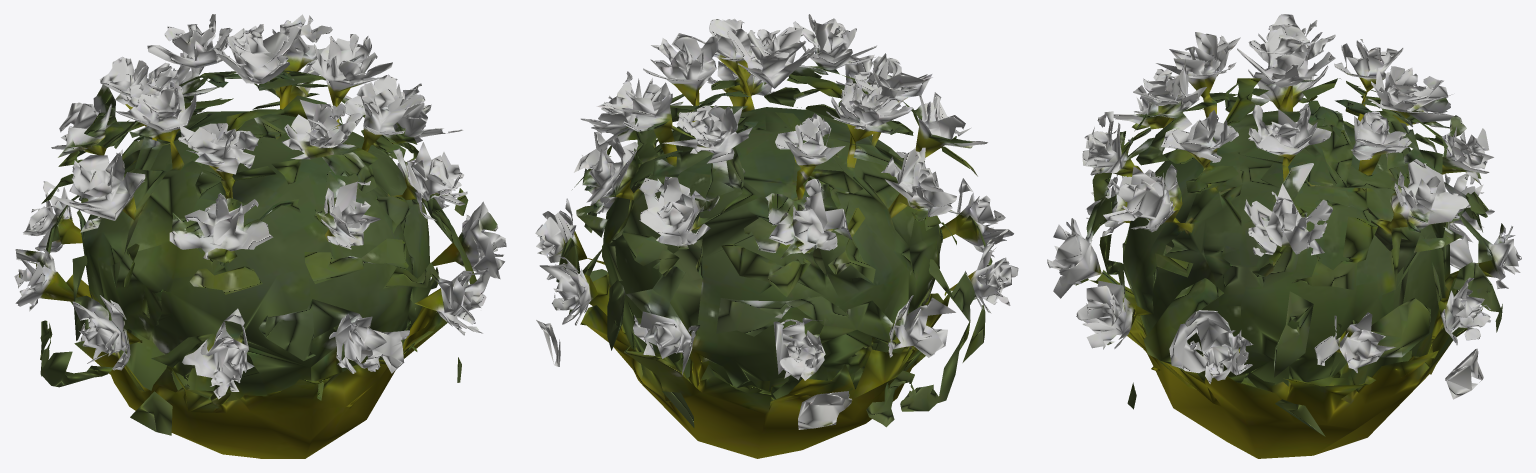
Rendered from rose_bush_white.glb.
3 views of the same model, side by side, from view 1: azimuth 30°, elevation 25°; view 2: azimuth 150°, elevation 25°; view 3: azimuth 270°, elevation 25° (orthographic). The views are drawn at different scales.
Parts seen in each view (by area): view 1: tripo_node_90670a68-7d4b-4819-8fcb-088fe1b4f0fb; view 2: tripo_node_90670a68-7d4b-4819-8fcb-088fe1b4f0fb; view 3: tripo_node_90670a68-7d4b-4819-8fcb-088fe1b4f0fb.
Boxes of the visible parts, box(x1,y1,x2,y2) form: tripo_node_90670a68-7d4b-4819-8fcb-088fe1b4f0fb: box(14, 14, 506, 458); tripo_node_90670a68-7d4b-4819-8fcb-088fe1b4f0fb: box(535, 14, 1018, 458); tripo_node_90670a68-7d4b-4819-8fcb-088fe1b4f0fb: box(1047, 14, 1521, 458).
Size of the model in its own units: 0.9863 by 0.9445 by 0.9833.
1 material, 1 textured.
